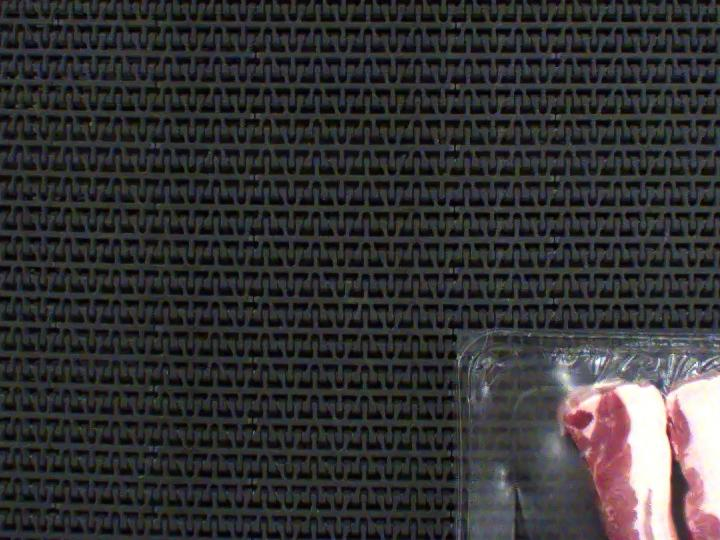unsealed: (478, 338, 720, 540)
